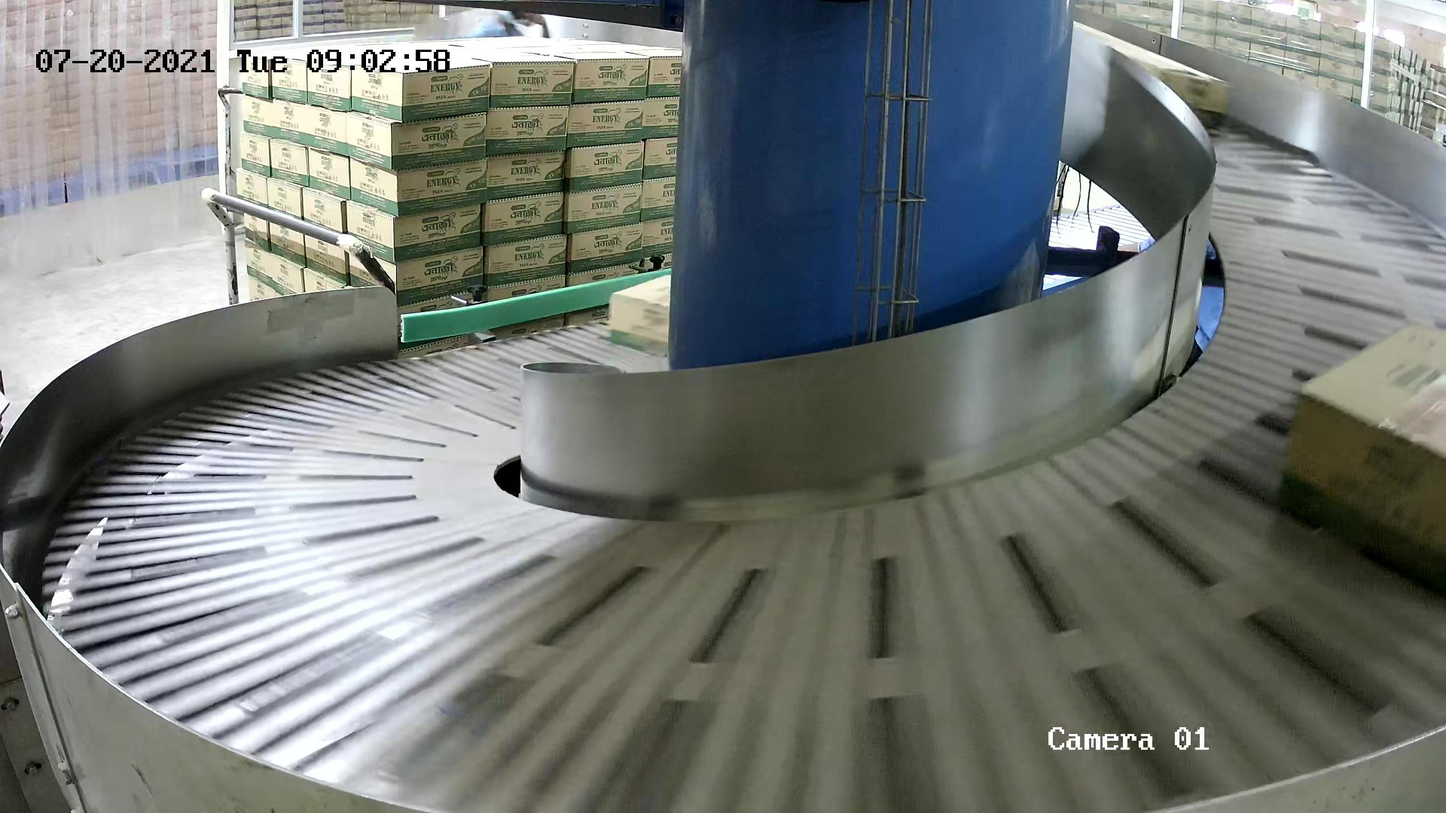Box: (1274, 318, 1446, 602), (608, 273, 722, 361)
